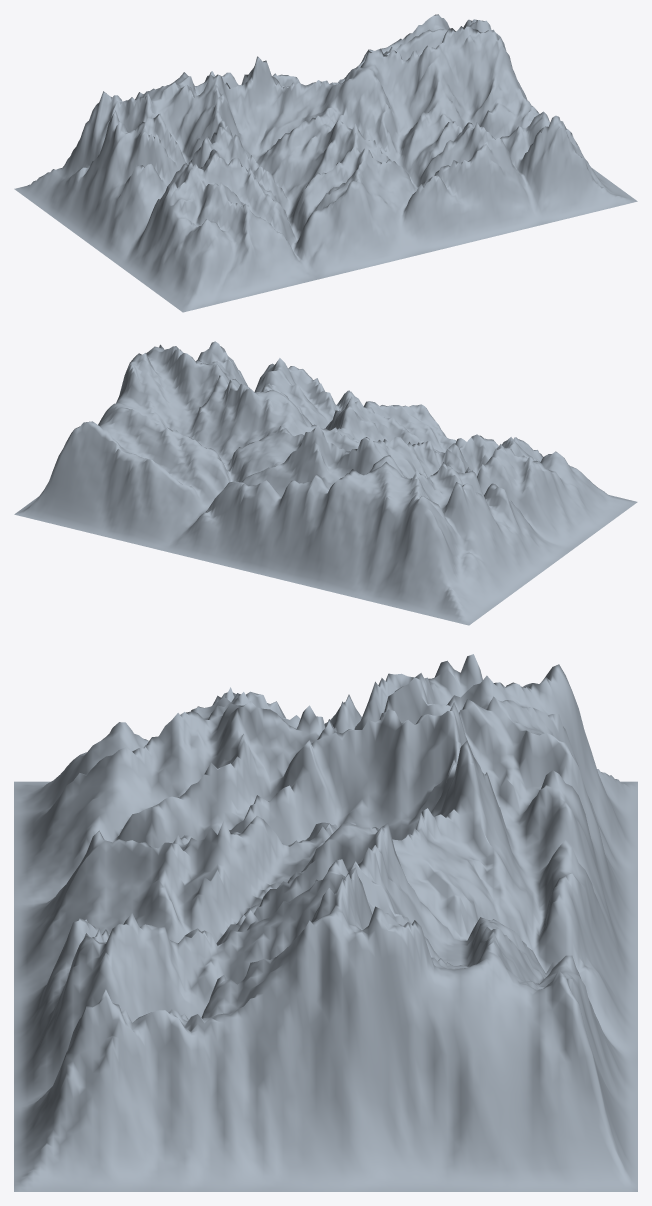
Rendered from matterhorn-ridge-lod.glb.
3 renders of one model, top to bottom at view 1: azimuth 30°, elevation 25°; view 2: azimuth 150°, elevation 25°; view 3: azimuth 270°, elevation 25°, orthographic. The views are drawn at different scales.
Parts seen in each view (by area): view 1: matterhorn-ridge-lod; view 2: matterhorn-ridge-lod; view 3: matterhorn-ridge-lod.
Boxes of the visible parts, x1,y1,x2,y2 form: matterhorn-ridge-lod: (14, 14, 637, 312); matterhorn-ridge-lod: (14, 341, 637, 625); matterhorn-ridge-lod: (14, 654, 637, 1191).
Bounding box in the file's own units: 112 × 30.64 × 72.
